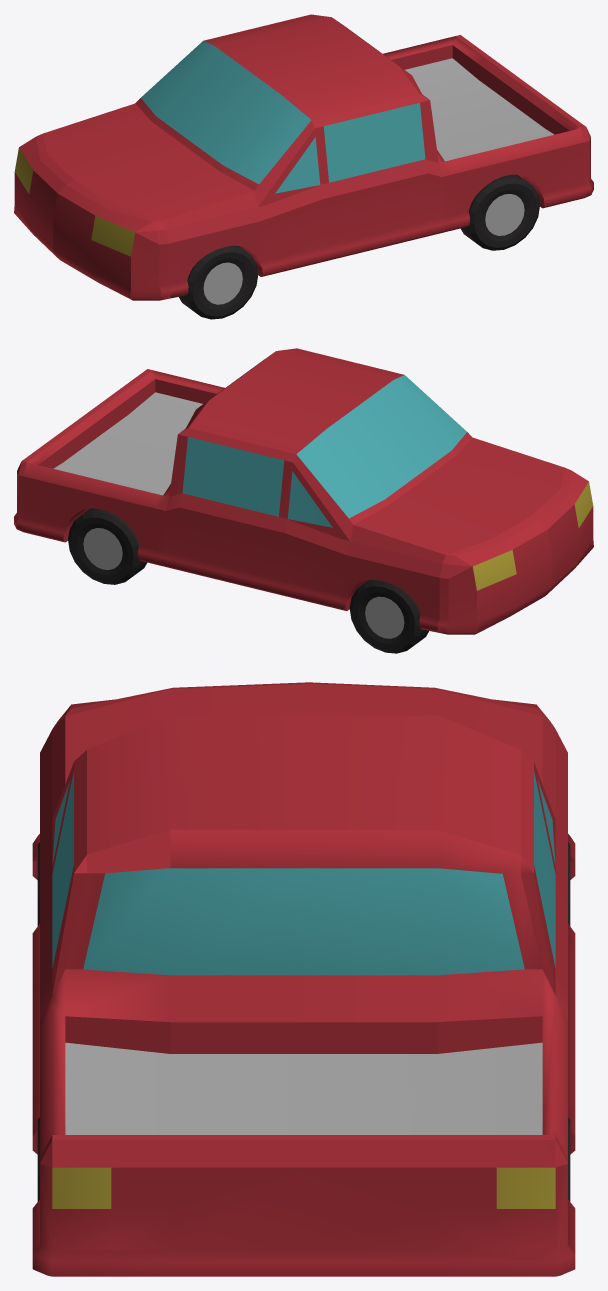
Rendered from truck.fbx.
3 renders of one model, top to bottom at view 1: azimuth 30°, elevation 25°; view 2: azimuth 150°, elevation 25°; view 3: azimuth 270°, elevation 25°, orthographic. The views are drawn at different scales.
Parts seen in each view (by area): view 1: pCube3; view 2: pCube3; view 3: pCube3.
Part boxes in pixels (x1,y1,x2,y2): pCube3: [14, 14, 593, 319]; pCube3: [14, 348, 593, 653]; pCube3: [32, 682, 575, 1276].
Size of the model in its own units: 1411 by 507 by 696.
